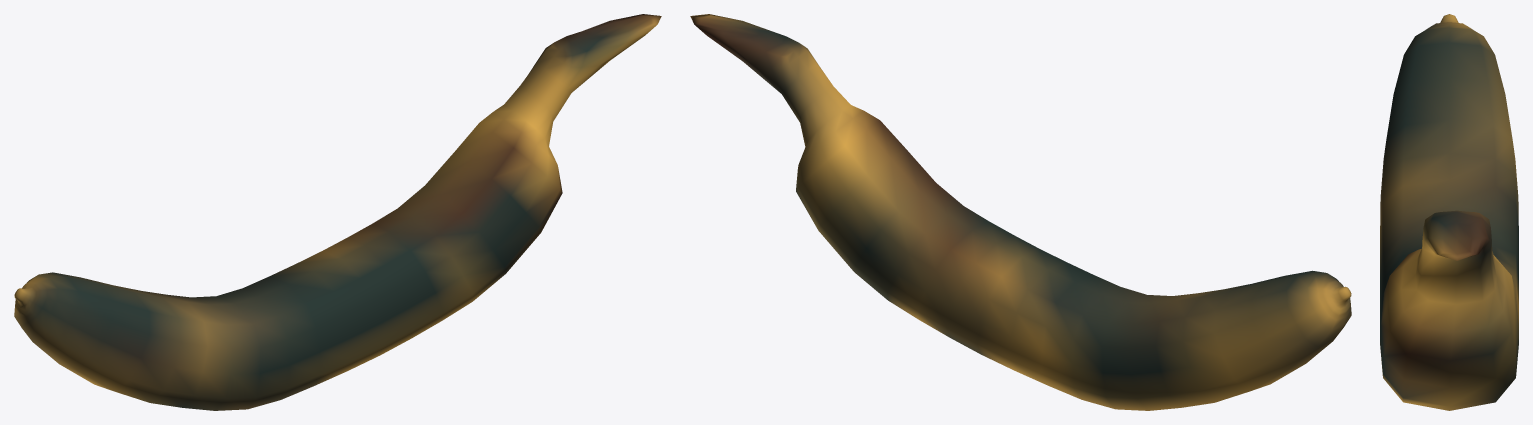
The model's file is Bananan.fbx.
3 views of the same model, side by side, from view 1: azimuth 30°, elevation 25°; view 2: azimuth 150°, elevation 25°; view 3: azimuth 270°, elevation 25° (orthographic). The views are drawn at different scales.
Parts seen in each view (by area): view 1: pisang; view 2: pisang; view 3: pisang.
Part boxes in pixels (bbox=[...]): pisang: bbox=[14, 14, 661, 410]; pisang: bbox=[690, 14, 1351, 410]; pisang: bbox=[1380, 14, 1518, 410].
Bounding box in the file's own units: 490 × 200 × 73.83.
